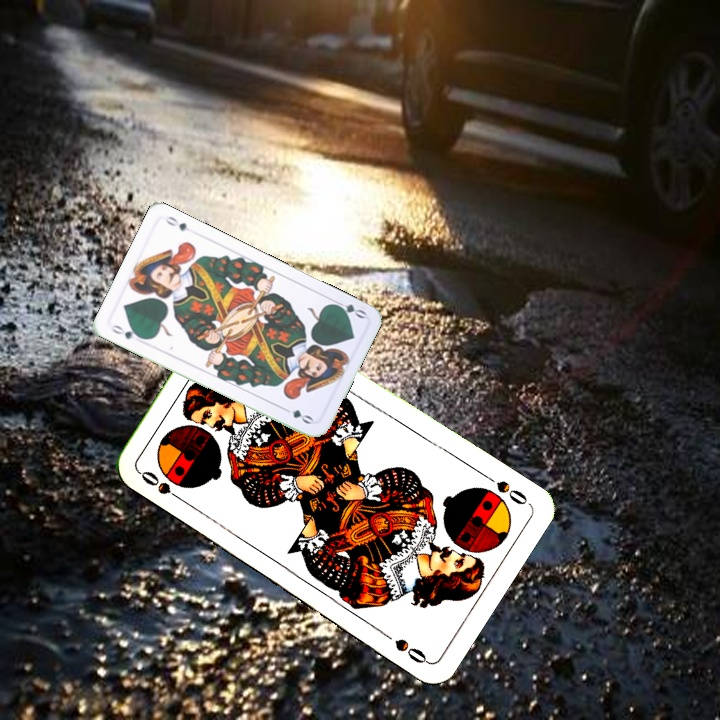GO: (328, 296, 369, 321), (107, 321, 146, 342)
SO: (136, 466, 188, 506), (479, 470, 532, 508)
